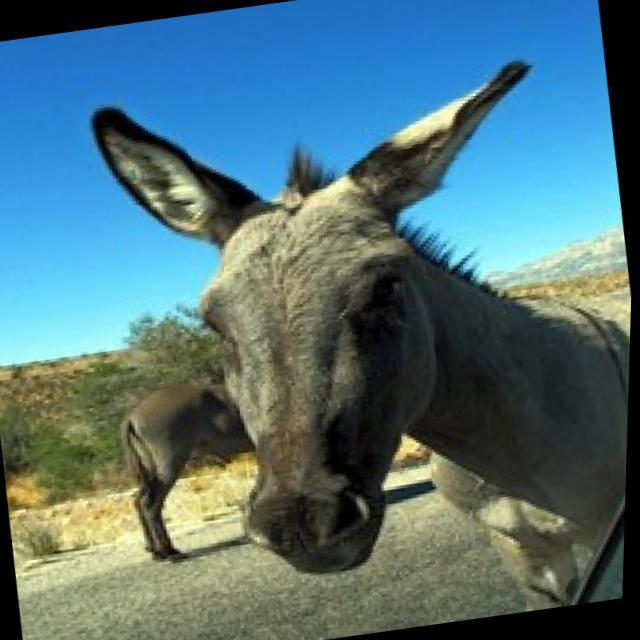Donkey: (58, 19, 640, 640), (114, 369, 274, 563)
